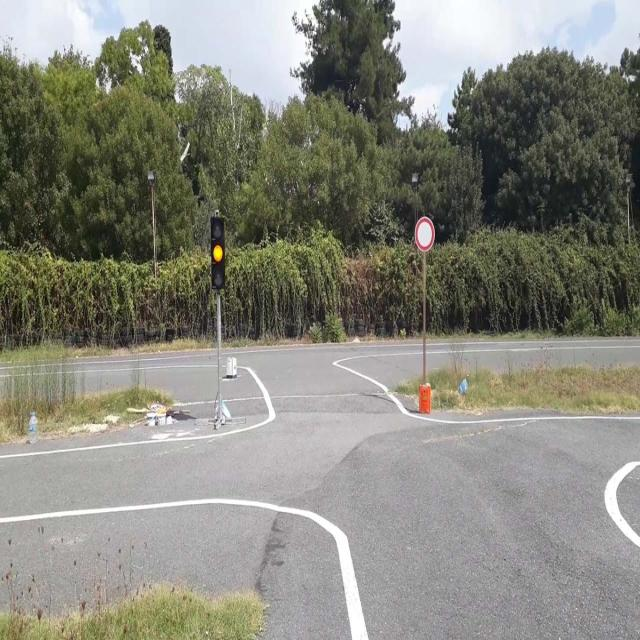sari: (211, 216, 225, 288)
